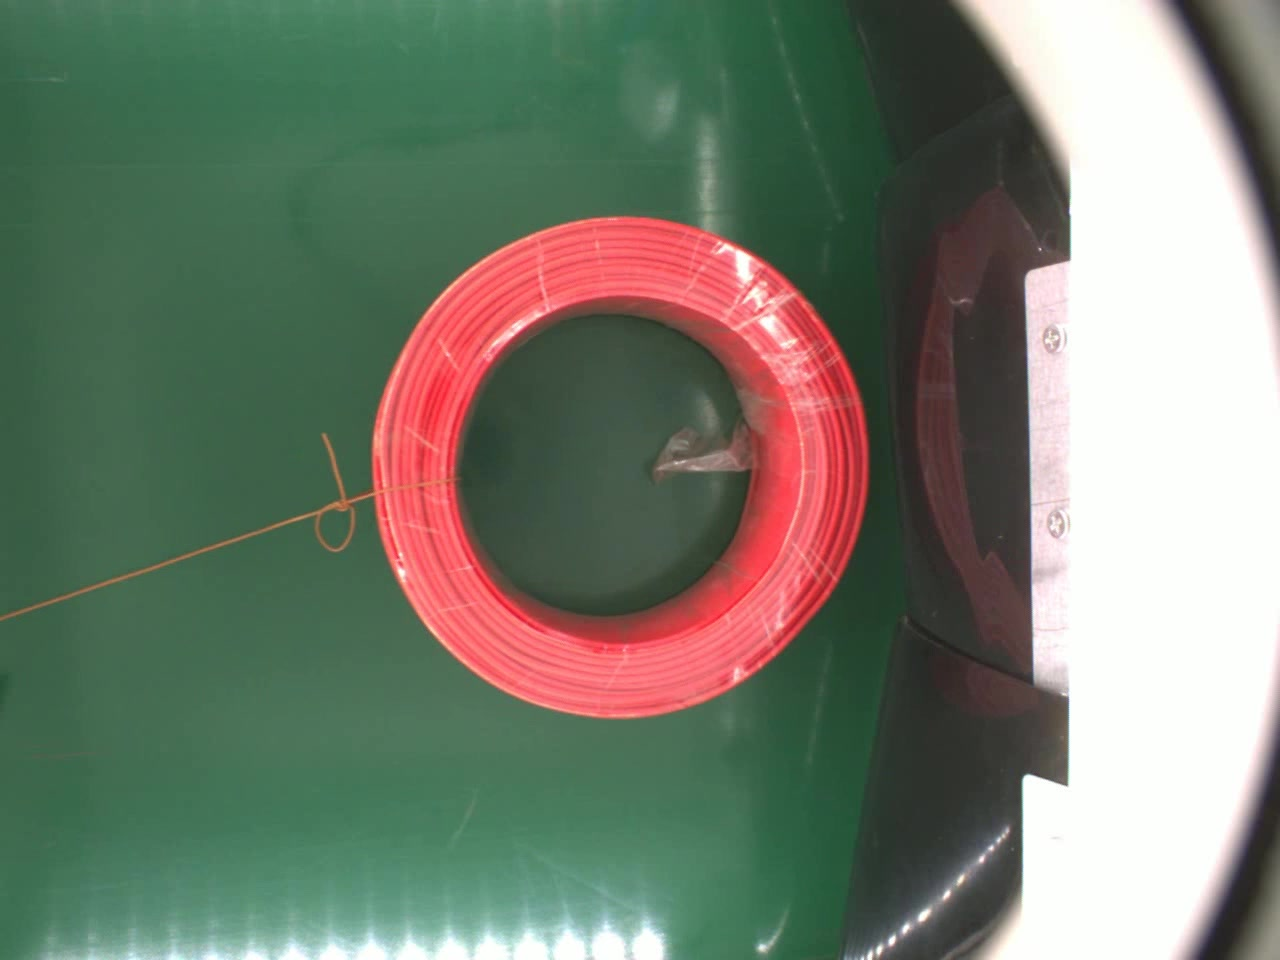red: (368, 212, 868, 718)
